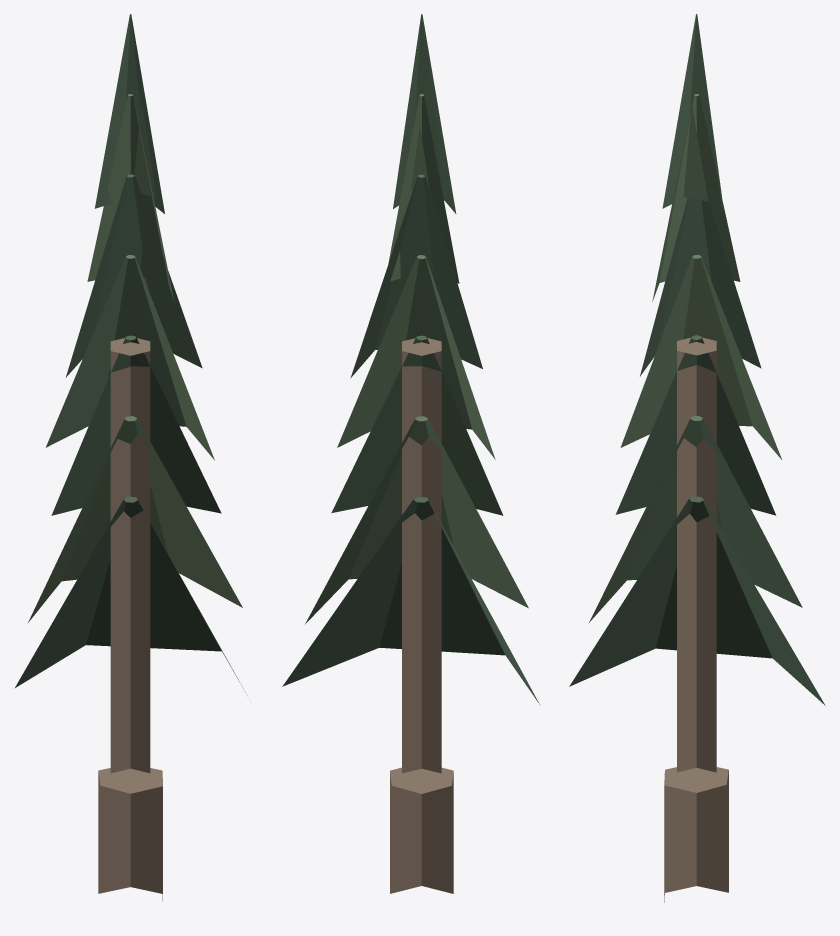
The model's file is shu.yunshan@subadult__spring.glb.
The picture shows the model from 3 angles, left to right: view 1: azimuth 30°, elevation 25°; view 2: azimuth 150°, elevation 25°; view 3: azimuth 270°, elevation 25°; orthographic projection.
Visible parts, largest first — view 1: shu.yunshan@subadult__spring; view 2: shu.yunshan@subadult__spring; view 3: shu.yunshan@subadult__spring.
Part boxes in pixels (left/top/right/bottom): shu.yunshan@subadult__spring: left=14, top=14, right=247, bottom=901; shu.yunshan@subadult__spring: left=282, top=14, right=540, bottom=893; shu.yunshan@subadult__spring: left=569, top=14, right=825, bottom=902.
Bounding box in the file's own units: 2.49 × 9.88 × 2.6.
